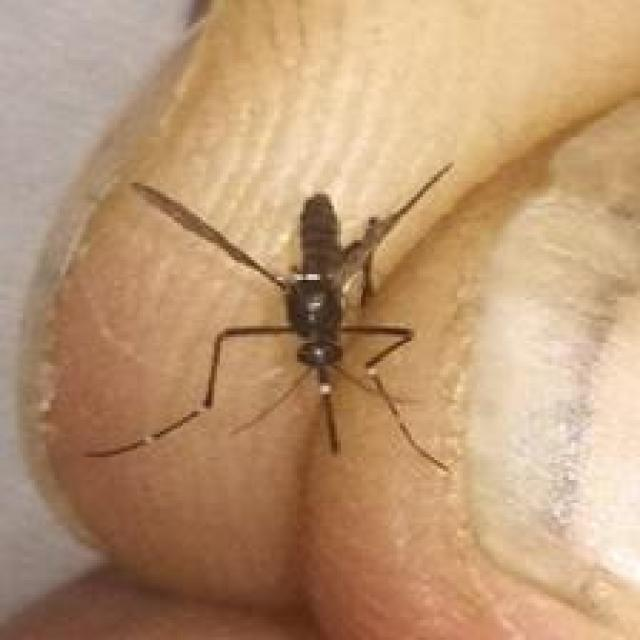Aedes albopictus: (83, 160, 457, 477)
